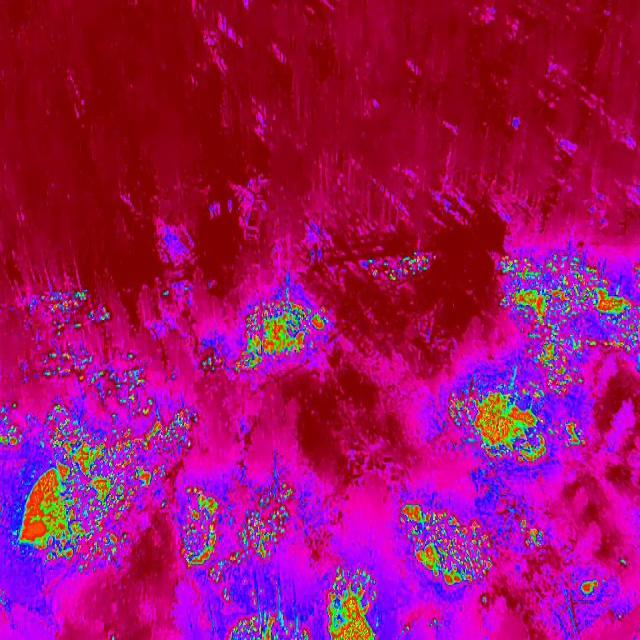fire: (0, 292, 196, 583), (443, 359, 591, 501), (496, 246, 640, 382), (395, 496, 545, 596), (179, 482, 296, 582), (227, 567, 382, 640), (229, 282, 334, 373), (366, 256, 433, 289), (576, 576, 600, 605)
